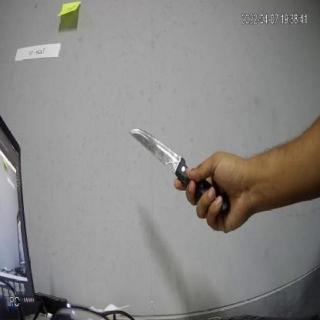knife: (122, 124, 232, 220)
